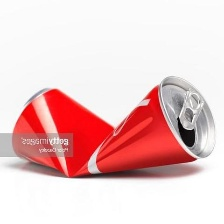can: (7, 73, 218, 181)
